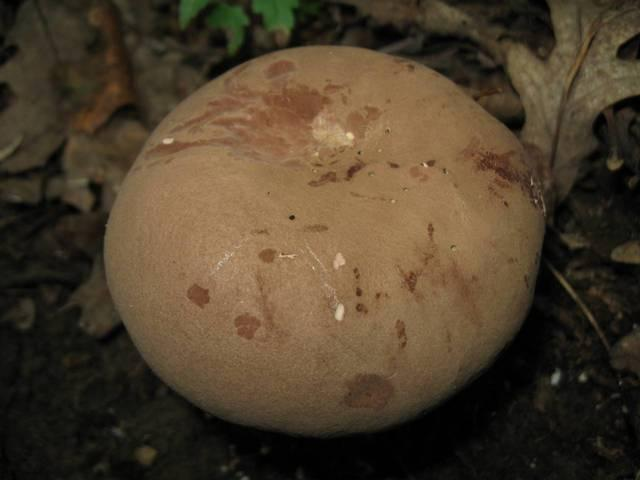Non-edible Mushroom: (101, 42, 548, 439)
